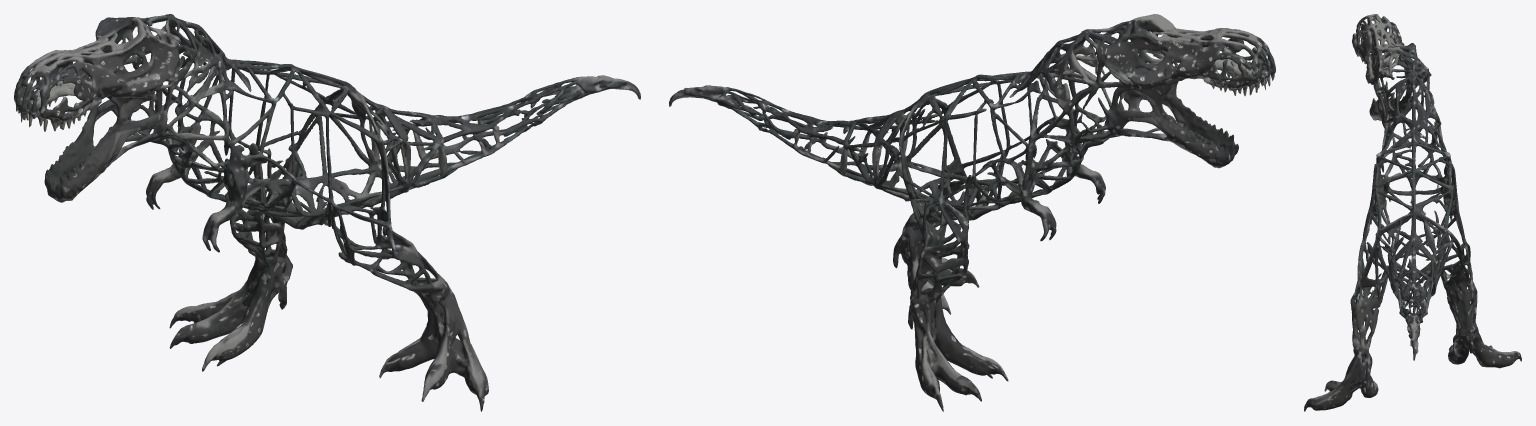
File: sankan_dino.glb
3 renders of one model, left to right at view 1: azimuth 30°, elevation 25°; view 2: azimuth 150°, elevation 25°; view 3: azimuth 270°, elevation 25°, orthographic. The views are drawn at different scales.
Parts seen in each view (by area): view 1: tripo_node_140e1c3f-b7bf-4818-821a-a5a272804b47; view 2: tripo_node_140e1c3f-b7bf-4818-821a-a5a272804b47; view 3: tripo_node_140e1c3f-b7bf-4818-821a-a5a272804b47.
Boxes of the visible parts, x1=… form: tripo_node_140e1c3f-b7bf-4818-821a-a5a272804b47: x1=14, y1=14, x2=640, y2=411; tripo_node_140e1c3f-b7bf-4818-821a-a5a272804b47: x1=669, y1=14, x2=1275, y2=411; tripo_node_140e1c3f-b7bf-4818-821a-a5a272804b47: x1=1304, y1=14, x2=1521, y2=411.
Size of the model in its own units: 1 by 0.6006 by 0.4315.
Materials: 1 (1 with a texture image).
